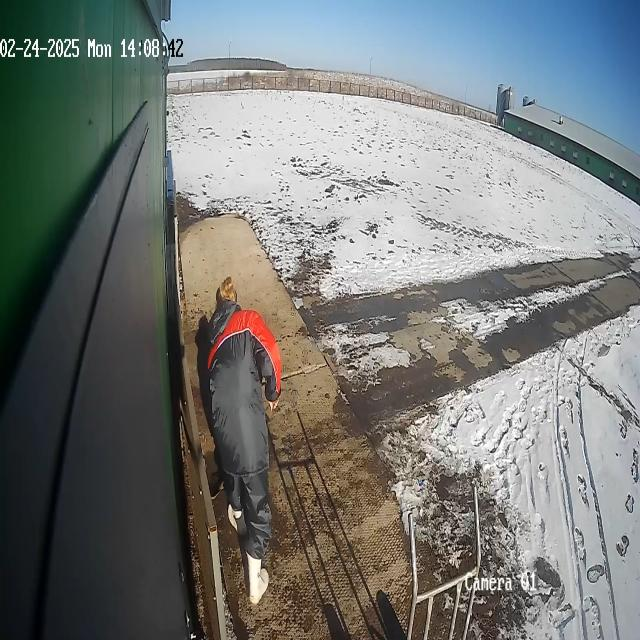Red uniform: (204, 305, 282, 562)
